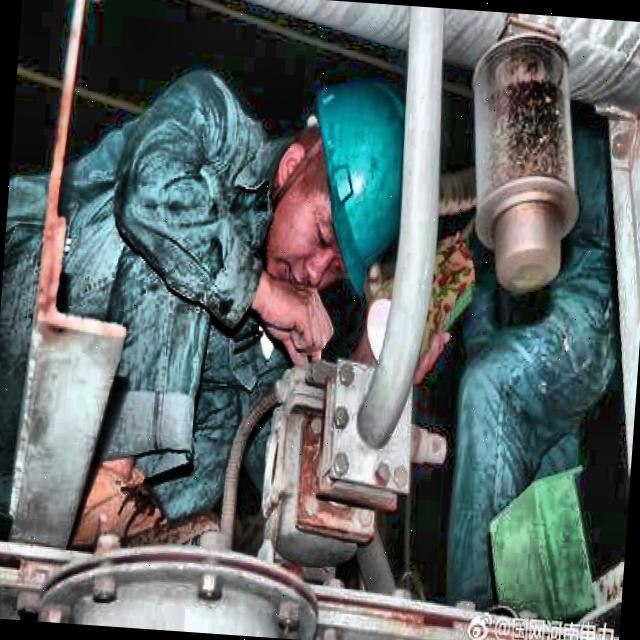helmet: (250, 59, 427, 320)
